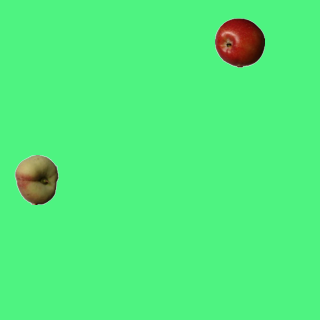Apple Braeburn: (214, 17, 264, 67)
Peach Flat: (11, 154, 61, 204)
